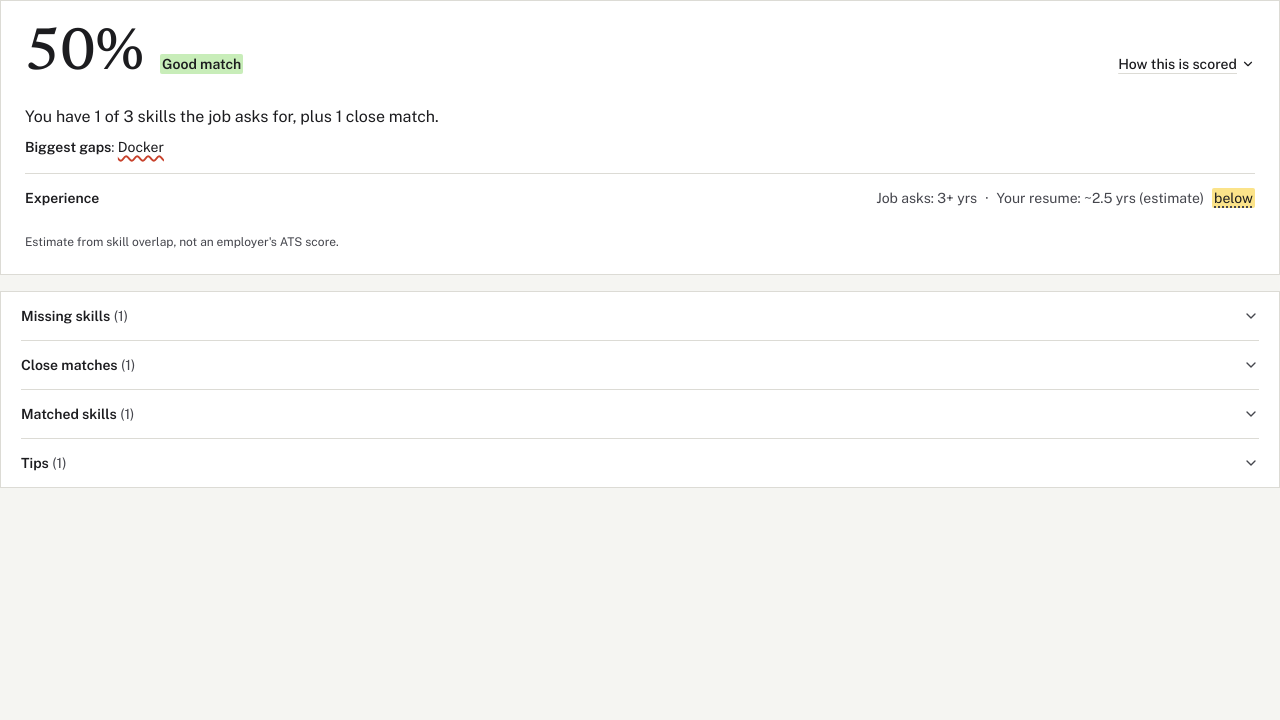
Test: skill lists and tips stay collapsed until opened
Expected: the text "via PyTorch" is not shown
Expected: the text "Use the job's wording." is not shown
Click the button "Close matches (1)".
click(69, 365)  # box [21,341,1259,389]
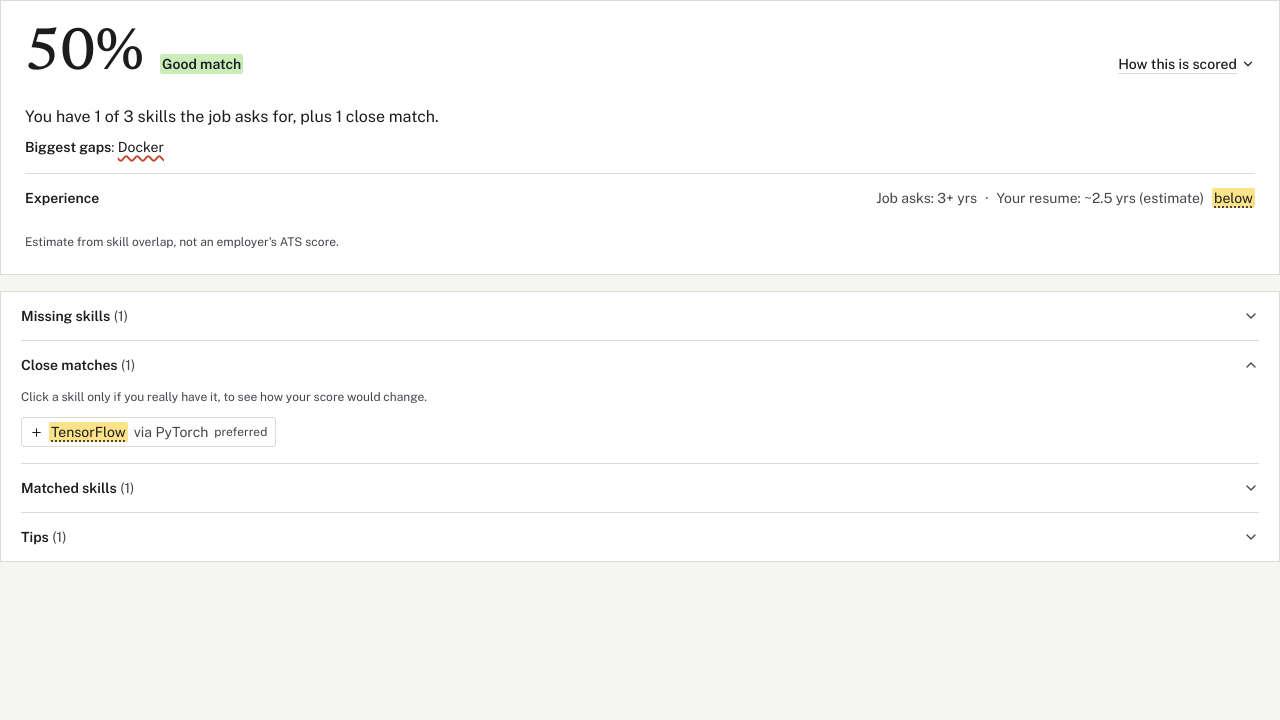
Now the text "via PyTorch" is shown, box [134,422,208,442]
Now the text "preferred" is shown, box [214,424,267,440]
Click the button "Tips (1)".
click(35, 537)  # box [21,513,1259,561]
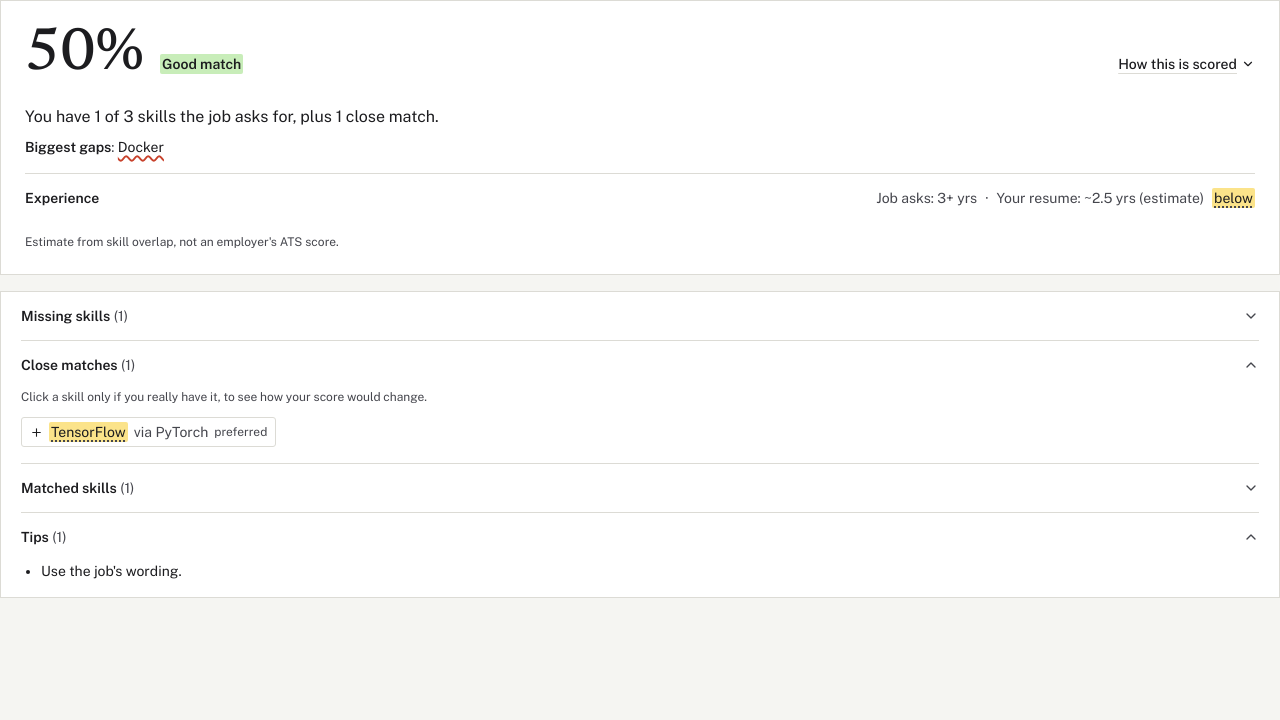
Now the list item "Use the job's wording." is shown, box [41,563,182,579]
